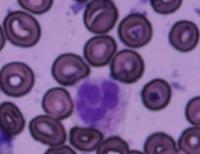N: (70, 74, 129, 134)
